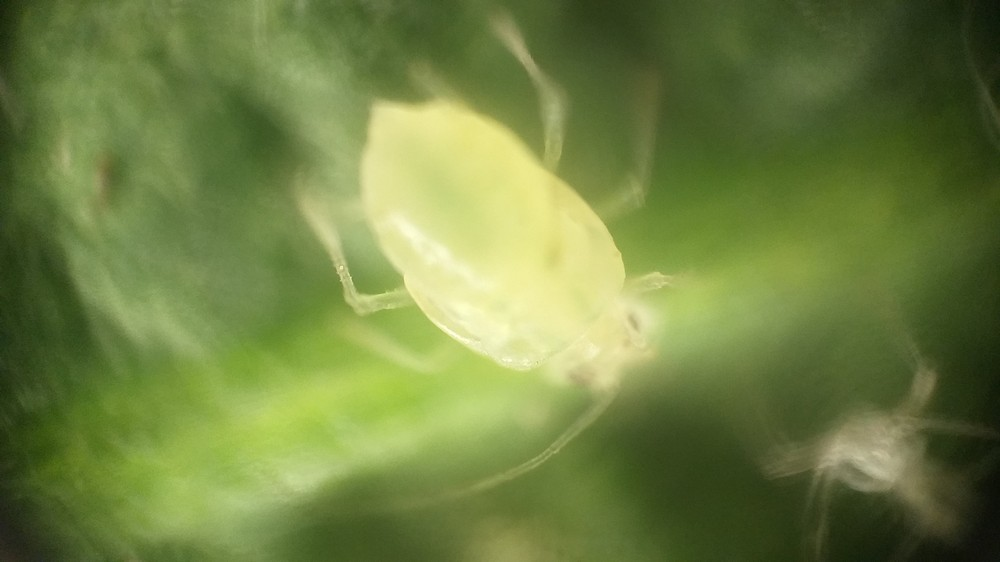Pulgon: (292, 15, 728, 451)
